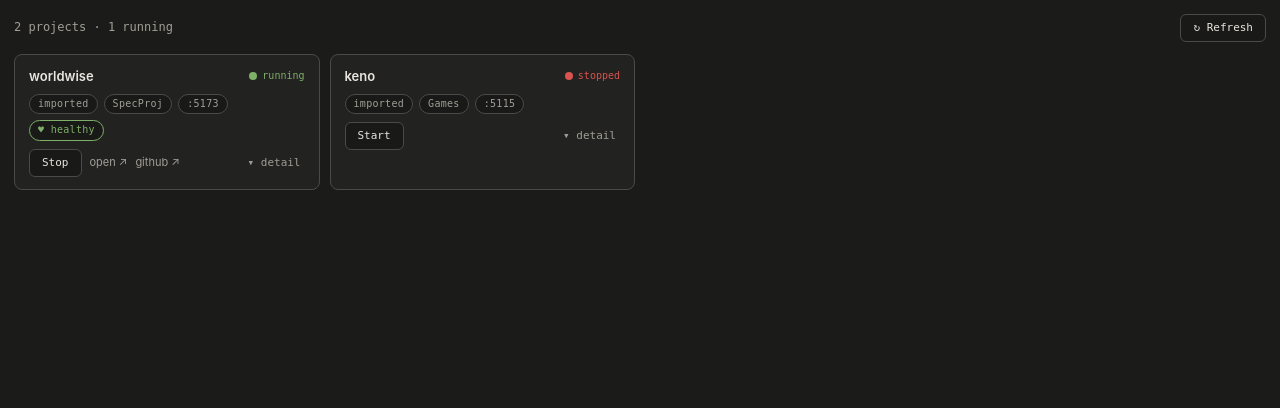
Scenario: ProjectsView › shows the no-launch-config note for unconfigured apps
Check: the element with test id "pv-card-worldwise" is shown, box x1=14 y1=54 x2=320 y2=190
Click the button "▾ detail" next to "github ↗" at point(274, 163), box x1=244 y1=153 x2=304 y2=173
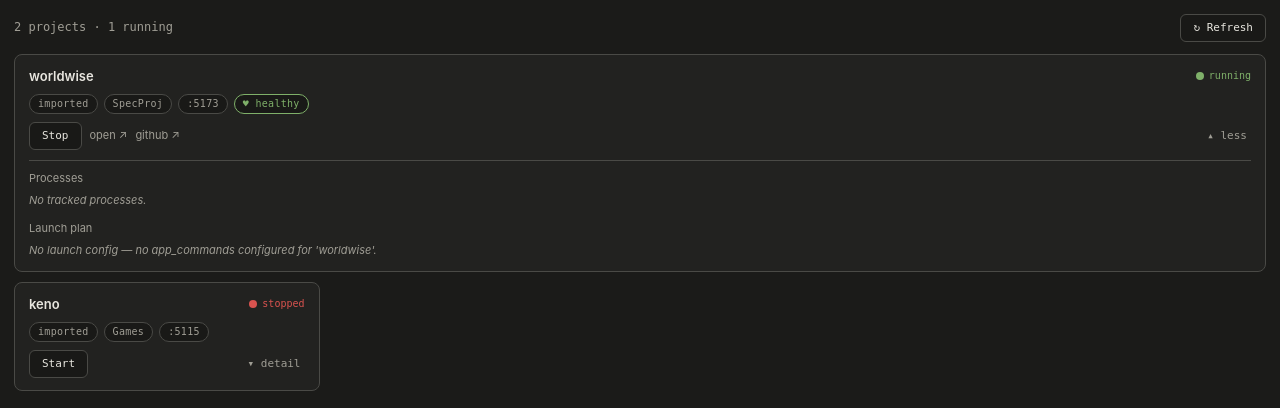
Check: the text "No launch config" is shown, box x1=29 y1=243 x2=135 y2=257
